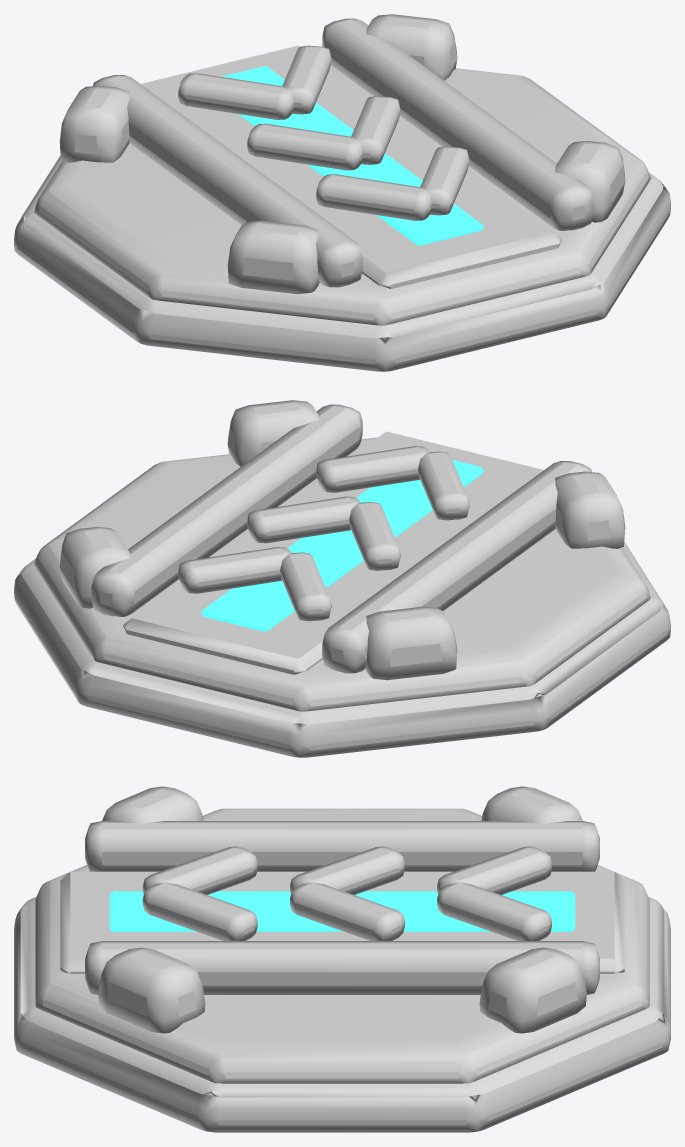
The model's file is SM_OverdrivePad.fbx.
The picture shows the model from 3 angles, top to bottom: view 1: azimuth 30°, elevation 25°; view 2: azimuth 150°, elevation 25°; view 3: azimuth 270°, elevation 25°; orthographic projection. The views are drawn at different scales.
Parts seen in each view (by area): view 1: OverdrivePad, Chevrons; view 2: OverdrivePad, Chevrons; view 3: OverdrivePad, Chevrons.
Boxes of the visible parts, left/top/right/bottom form: OverdrivePad: left=14, top=14, right=670, bottom=371; Chevrons: left=178, top=45, right=469, bottom=220; OverdrivePad: left=14, top=400, right=670, bottom=757; Chevrons: left=178, top=446, right=469, bottom=621; OverdrivePad: left=14, top=786, right=670, bottom=1132; Chevrons: left=142, top=846, right=551, bottom=940.
Bounding box in the file's own units: 2.81 × 0.5565 × 2.81.
